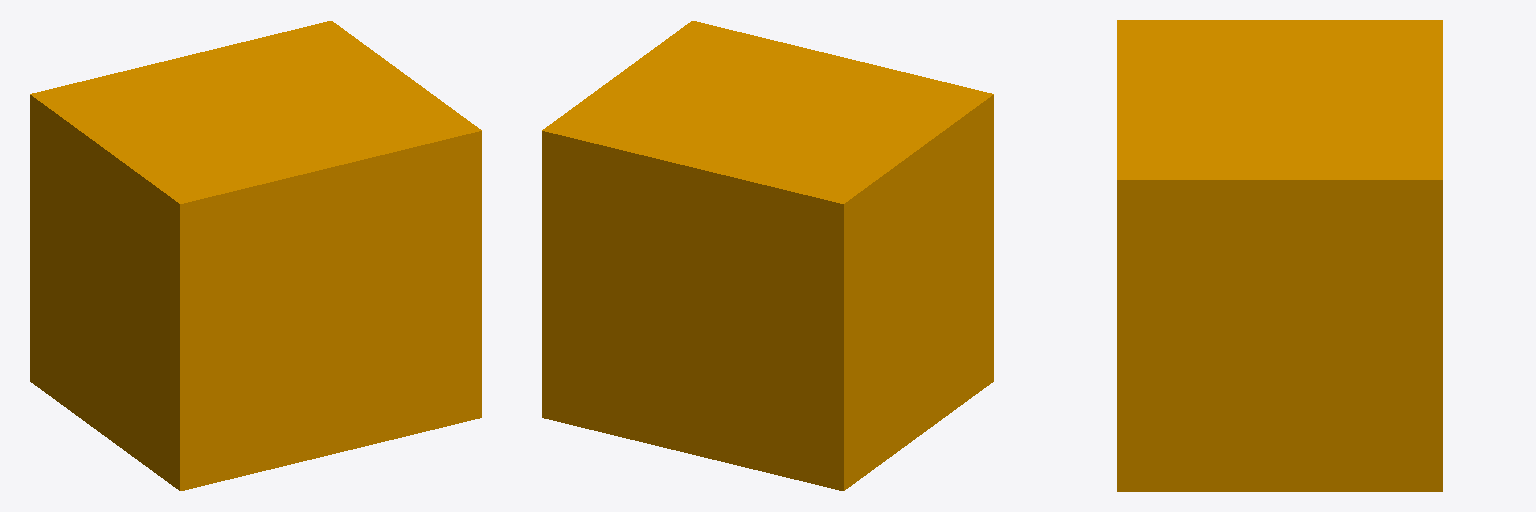
The robot description file, URDF, robot "object":
<robot name="object">
  <link name="object">
    <visual>
      <origin xyz="0 0 0" />
      <geometry>
        <box size="0.08800000000000002 0.07600000000000001 0.08" />
      </geometry>
    </visual>

    <collision>
      <origin xyz="0 0 0" />
      <geometry>
        <box size="0.08800000000000002 0.07600000000000001 0.08" />
      </geometry>
    </collision>

    <inertial>
      <mass value="0.05" />
      <inertia ixx="0.0001" ixy="0.0" ixz="0.0" iyy="0.0001" iyz="0.0" izz="0.0001" />
    </inertial>
  </link>
</robot>

--- Facts derived from the render (not from the file) ---
The picture shows the robot from 3 angles, left to right: view 1: azimuth 30°, elevation 25°; view 2: azimuth 150°, elevation 25°; view 3: azimuth 270°, elevation 25°; orthographic projection.
Model object with 1 links and 0 joints (none), rooted at object, posed all joints at 0.
Links seen in each view (by area): view 1: object; view 2: object; view 3: object.
Boxes of the visible links, x1,y1,x2,y2 form: object: (30, 21, 481, 490); object: (542, 21, 993, 490); object: (1117, 20, 1442, 491).
Bounding box of the posed robot: 0.088 × 0.076 × 0.08 m (x, y, z).
Geometry: primitives only (box / cylinder / sphere), no mesh files.